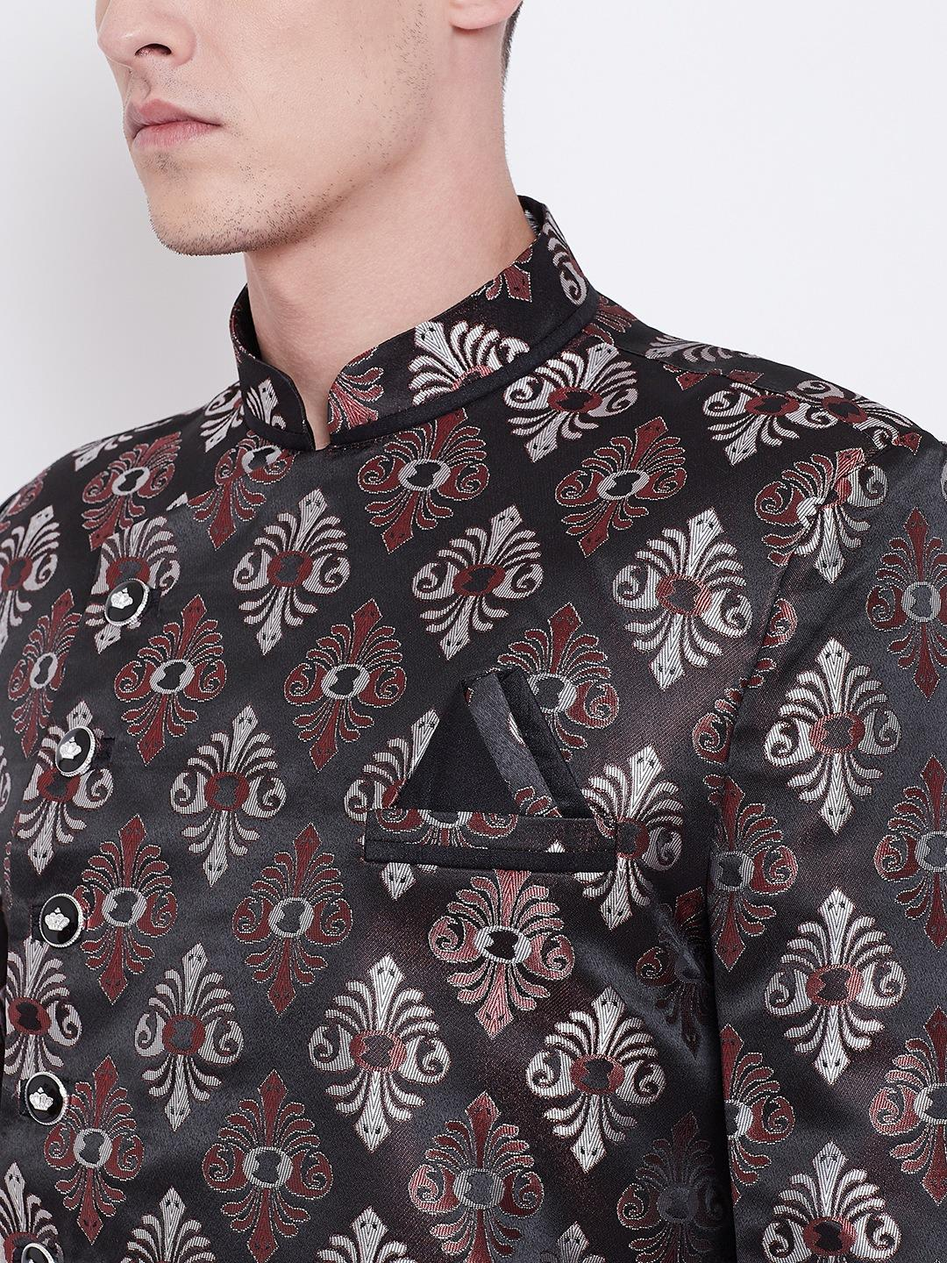Design Sherwani: (2, 180, 946, 1259)
